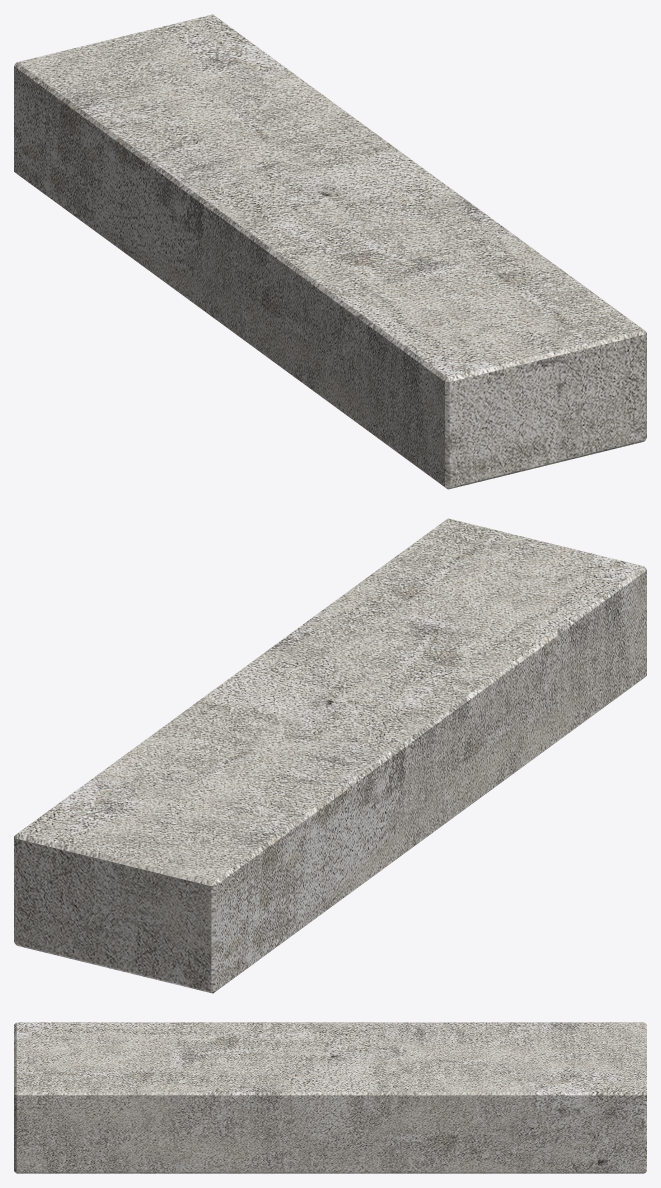
File: SM_JSH_StoneA.fbx
3 views of the same model, one above another, from view 1: azimuth 30°, elevation 25°; view 2: azimuth 150°, elevation 25°; view 3: azimuth 270°, elevation 25° (orthographic). The views are drawn at different scales.
Parts seen in each view (by area): view 1: SM_JSH_StoneA; view 2: SM_JSH_StoneA; view 3: SM_JSH_StoneA.
Part boxes in pixels (x1,y1,x2,y2): SM_JSH_StoneA: (14, 14, 646, 489); SM_JSH_StoneA: (14, 518, 646, 993); SM_JSH_StoneA: (14, 1022, 646, 1173).
Size of the model in its own units: 33.04 by 123 by 17.49.
Materials: 1 (1 with a texture image).
